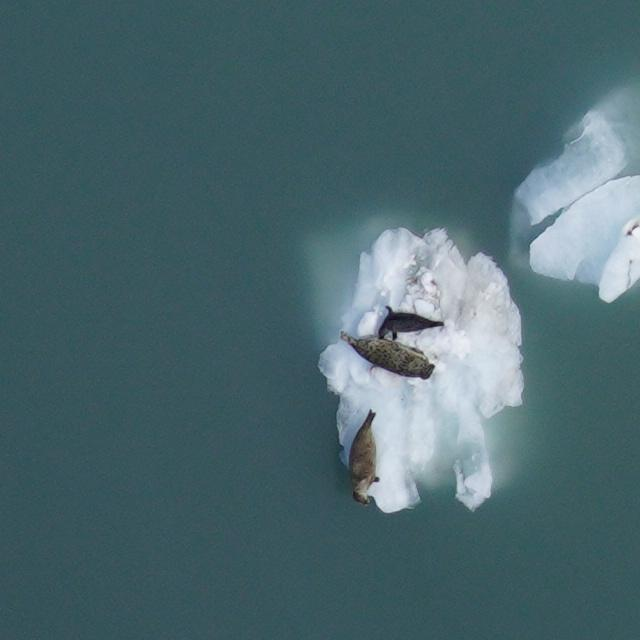seal: (334, 328, 440, 385), (346, 407, 381, 508), (376, 304, 446, 354)
